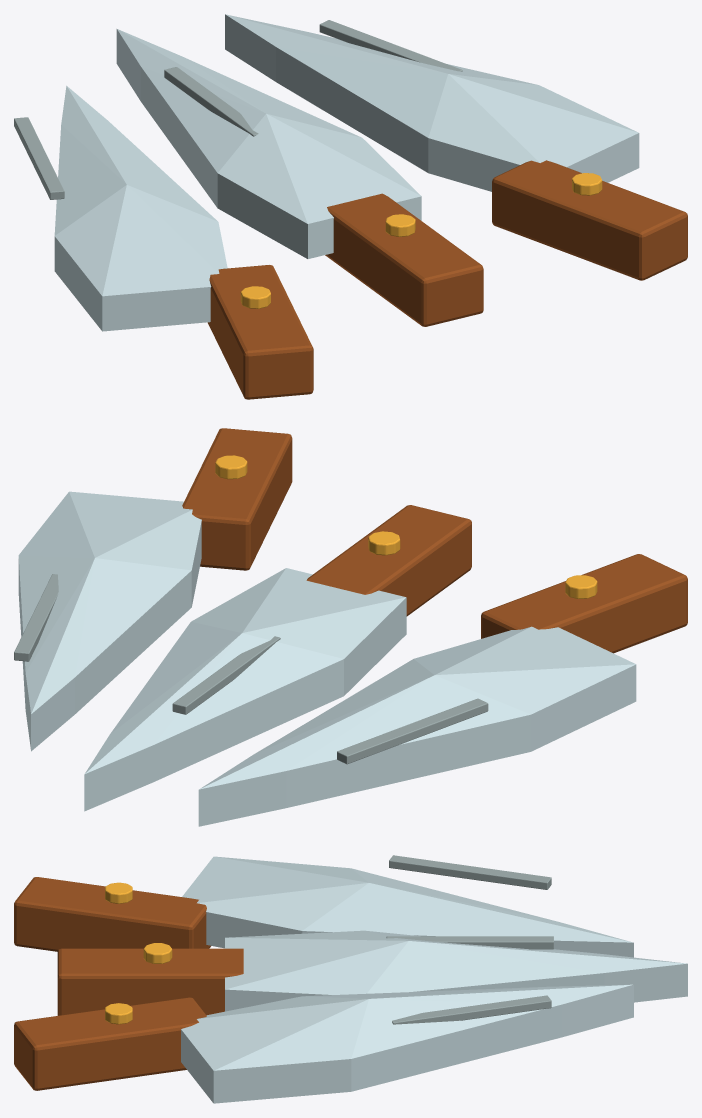
Rendered from throwing_knives.glb.
3 renders of one model, top to bottom at view 1: azimuth 30°, elevation 25°; view 2: azimuth 150°, elevation 25°; view 3: azimuth 270°, elevation 25°, orthographic. The views are drawn at different scales.
Parts seen in each view (by area): view 1: throwing_blade_2, throwing_blade_1, throwing_blade_0, throwing_blade_2_wood_grip, throwing_blade_1_wood_grip, throwing_blade_0_wood_grip, blade_edge_glint_2, blade_edge_glint_1, blade_edge_glint_0, throwing_blade_1_grip_pin, throwing_blade_0_grip_pin, throwing_blade_2_grip_pin; view 2: throwing_blade_0, throwing_blade_1, throwing_blade_2, throwing_blade_0_wood_grip, throwing_blade_2_wood_grip, throwing_blade_1_wood_grip, blade_edge_glint_0, blade_edge_glint_1, blade_edge_glint_2, throwing_blade_2_grip_pin, throwing_blade_1_grip_pin, throwing_blade_0_grip_pin; view 3: throwing_blade_2, throwing_blade_1, throwing_blade_0, throwing_blade_2_wood_grip, throwing_blade_0_wood_grip, throwing_blade_1_wood_grip, blade_edge_glint_0, blade_edge_glint_2, blade_edge_glint_1, throwing_blade_1_grip_pin, throwing_blade_2_grip_pin, throwing_blade_0_grip_pin.
Part boxes in pixels (x1,y1,x2,y2): throwing_blade_2: (225, 14, 639, 191); throwing_blade_1: (116, 29, 421, 258); throwing_blade_0: (54, 85, 227, 331); throwing_blade_2_wood_grip: (492, 160, 687, 280); throwing_blade_1_wood_grip: (325, 193, 483, 326); throwing_blade_0_wood_grip: (207, 265, 313, 399); blade_edge_glint_2: (319, 20, 462, 71); blade_edge_glint_1: (164, 67, 258, 136); blade_edge_glint_0: (14, 117, 64, 199); throwing_blade_1_grip_pin: (385, 214, 415, 236); throwing_blade_0_grip_pin: (240, 286, 270, 308); throwing_blade_2_grip_pin: (572, 173, 602, 195); throwing_blade_0: (198, 626, 636, 826); throwing_blade_1: (84, 568, 406, 811); throwing_blade_2: (18, 491, 201, 751); throwing_blade_0_wood_grip: (481, 554, 687, 653); throwing_blade_2_wood_grip: (182, 428, 292, 570); throwing_blade_1_wood_grip: (306, 505, 471, 616); blade_edge_glint_0: (337, 698, 488, 764); blade_edge_glint_1: (172, 636, 280, 714); blade_edge_glint_2: (14, 574, 58, 661); throwing_blade_2_grip_pin: (215, 455, 247, 479); throwing_blade_1_grip_pin: (368, 531, 400, 555); throwing_blade_0_grip_pin: (565, 575, 597, 598); throwing_blade_2: (181, 984, 633, 1103); throwing_blade_1: (225, 930, 687, 1011); throwing_blade_0: (182, 856, 633, 957); throwing_blade_2_wood_grip: (14, 997, 206, 1090); throwing_blade_0_wood_grip: (14, 877, 210, 951); throwing_blade_1_wood_grip: (57, 948, 243, 1015); blade_edge_glint_0: (389, 855, 551, 889); blade_edge_glint_2: (392, 995, 551, 1024); blade_edge_glint_1: (386, 936, 553, 949); throwing_blade_1_grip_pin: (143, 943, 172, 963); throwing_blade_2_grip_pin: (105, 1003, 132, 1024); throwing_blade_0_grip_pin: (105, 882, 132, 903).
Size of the model in its own units: 1.04 by 0.19 by 1.21.
